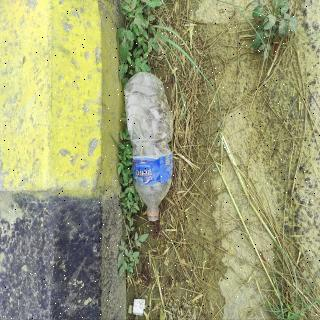Plastic-bottle: (122, 69, 176, 223)
